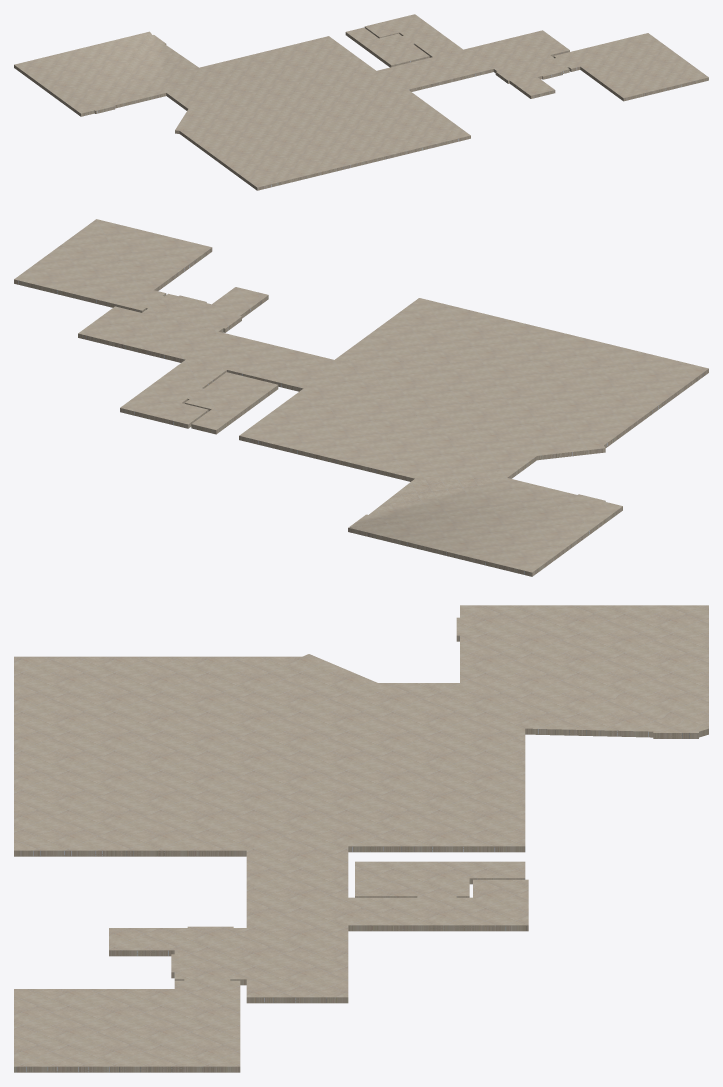
File: 1989_kitchen_Floor_Nation.gltf
3 views of the same model, one above another, from view 1: azimuth 30°, elevation 25°; view 2: azimuth 150°, elevation 25°; view 3: azimuth 270°, elevation 25° (orthographic). The views are drawn at different scales.
Visible parts, largest first — view 1: Line23799; view 2: Line23799; view 3: Line23799.
Boxes of the visible parts, x1=… form: Line23799: x1=14, y1=14, x2=708, y2=190; Line23799: x1=14, y1=219, x2=708, y2=576; Line23799: x1=14, y1=605, x2=708, y2=1072.
Bounding box in the file's own units: 33.3 × 0.3 × 21.2.
Materials: 1 (1 with a texture image).
